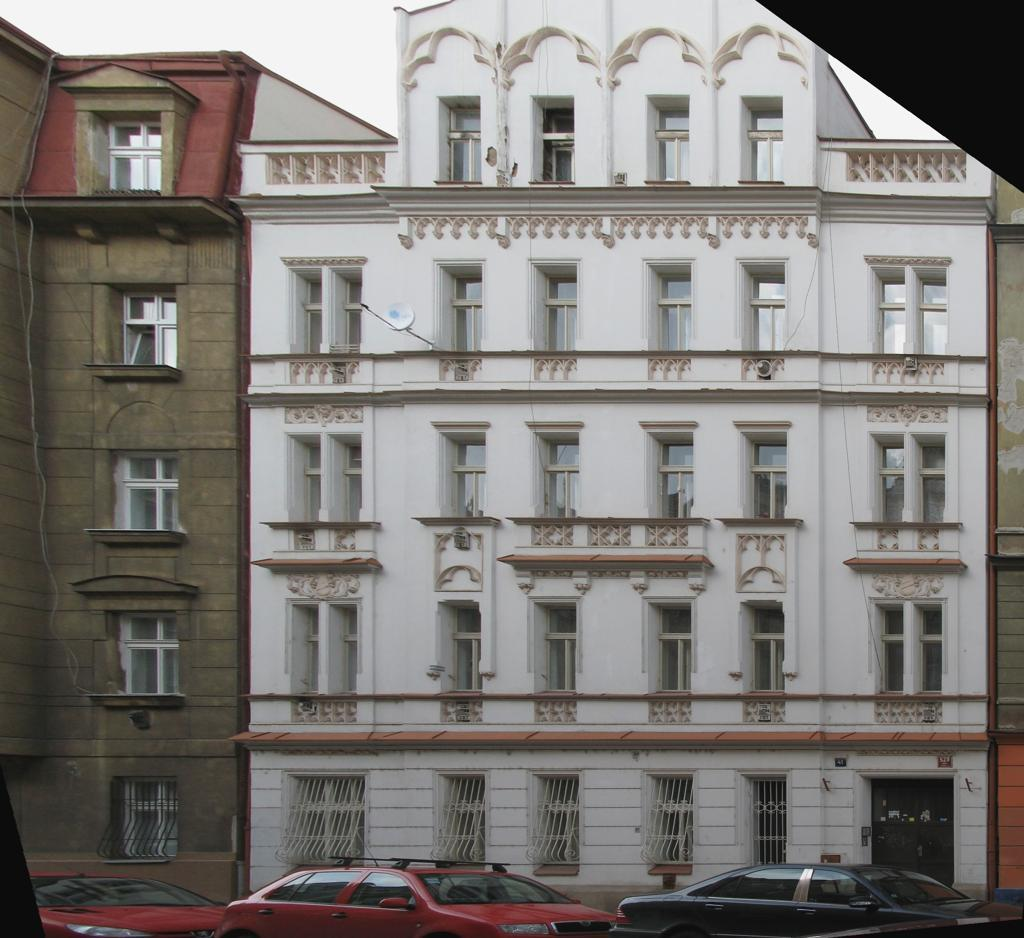window: (285, 775, 365, 876), (107, 283, 176, 373), (91, 111, 162, 196), (108, 450, 178, 534), (107, 611, 177, 695), (111, 776, 178, 860), (438, 774, 485, 872), (533, 774, 579, 874), (649, 774, 694, 874), (739, 96, 784, 184), (533, 602, 576, 694), (743, 600, 785, 694), (648, 603, 691, 694), (441, 600, 483, 693), (646, 95, 690, 183), (742, 265, 787, 351), (533, 264, 577, 351), (532, 96, 575, 184), (650, 433, 693, 521), (743, 433, 787, 519), (439, 96, 482, 183), (649, 265, 693, 350), (536, 434, 580, 519), (441, 265, 483, 354), (441, 433, 485, 517), (327, 434, 362, 522), (914, 269, 947, 355), (914, 435, 946, 523), (289, 435, 321, 522), (874, 268, 906, 354), (330, 268, 362, 354), (291, 268, 323, 354), (873, 434, 904, 522), (875, 604, 904, 695), (914, 604, 942, 696), (329, 604, 357, 695), (292, 604, 318, 695)
